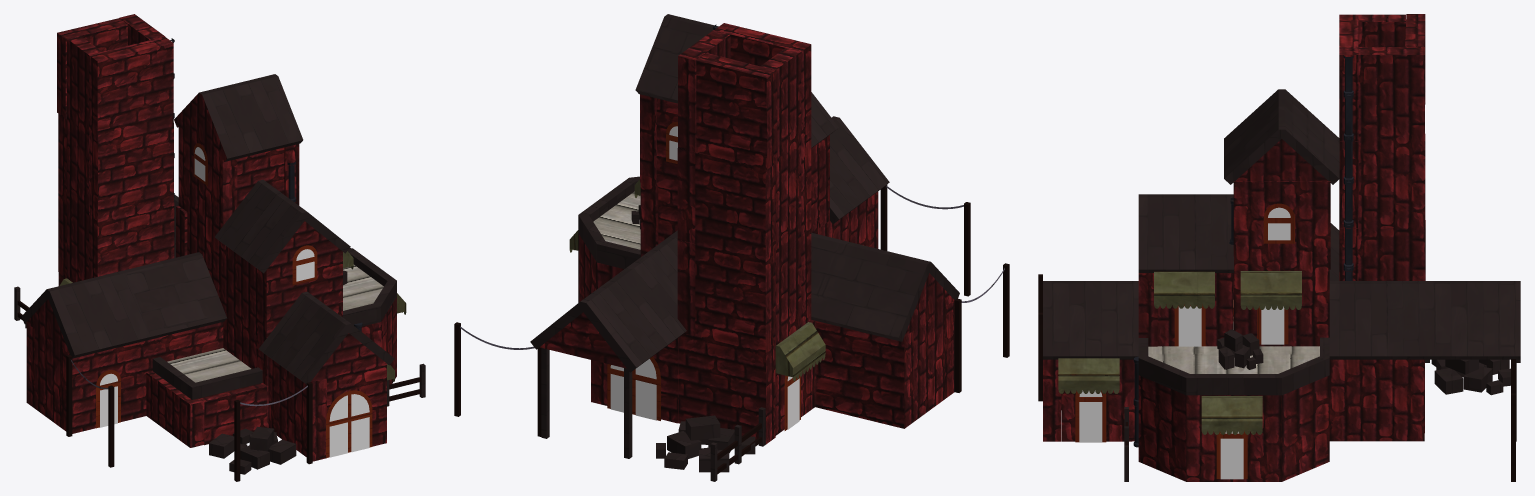
File: Brick_House.fbx
The picture shows the model from 3 angles, left to right: view 1: azimuth 30°, elevation 25°; view 2: azimuth 150°, elevation 25°; view 3: azimuth 270°, elevation 25°; orthographic projection. The views are drawn at different scales.
Parts seen in each view (by area): view 1: BrickHouse_LOD0.019, BrickHouse_LOD0.103, BrickHouse_LOD0.101, BrickHouse_LOD0.015, BrickHouse_LOD0.105, BrickHouse_LOD0.106, BrickHouse_LOD0.102, BrickHouse_LOD0.012, BrickHouse_LOD0.026, BrickHouse_LOD0.010, BrickHouse_LOD0.029, BrickHouse_LOD0.028 (+32 smaller); view 2: BrickHouse_LOD0.101, BrickHouse_LOD0.100, BrickHouse_LOD0.030, BrickHouse_LOD0.017, BrickHouse_LOD0.032, BrickHouse_LOD0.007, BrickHouse_LOD0.013, BrickHouse_LOD0.105, BrickHouse_LOD0.103, BrickHouse_LOD0.099, BrickHouse_LOD0.019, BrickHouse_LOD0.023 (+33 smaller); view 3: BrickHouse_LOD0.048, BrickHouse_LOD0.103, BrickHouse_LOD0.020, BrickHouse_LOD0.104, BrickHouse_LOD0.100, BrickHouse_LOD0.105, BrickHouse_LOD0.106, BrickHouse_LOD0.051, BrickHouse_LOD0.050, BrickHouse_LOD0.049, BrickHouse_LOD0.016, BrickHouse_LOD0.098 (+26 smaller).
Boxes of the visible parts, box(x1,y1,x2,y2) form: BrickHouse_LOD0.019: box(89, 36, 173, 141); BrickHouse_LOD0.103: box(174, 74, 303, 161); BrickHouse_LOD0.101: box(21, 270, 150, 358); BrickHouse_LOD0.015: box(89, 123, 173, 220); BrickHouse_LOD0.105: box(259, 291, 394, 384); BrickHouse_LOD0.106: box(215, 179, 350, 273); BrickHouse_LOD0.102: box(123, 252, 226, 339); BrickHouse_LOD0.012: box(89, 202, 174, 278); BrickHouse_LOD0.026: box(61, 340, 146, 433); BrickHouse_LOD0.010: box(178, 126, 237, 233); BrickHouse_LOD0.029: box(268, 357, 326, 461); BrickHouse_LOD0.028: box(257, 251, 342, 345); BrickHouse_LOD0.101: box(811, 240, 959, 341); BrickHouse_LOD0.100: box(530, 264, 686, 372); BrickHouse_LOD0.030: box(815, 321, 914, 428); BrickHouse_LOD0.017: box(696, 53, 777, 169); BrickHouse_LOD0.032: box(678, 333, 775, 444); BrickHouse_LOD0.007: box(695, 244, 775, 352); BrickHouse_LOD0.013: box(695, 152, 775, 260); BrickHouse_LOD0.105: box(830, 116, 889, 223); BrickHouse_LOD0.103: box(635, 14, 718, 103); BrickHouse_LOD0.099: box(578, 196, 640, 268); BrickHouse_LOD0.019: box(714, 23, 811, 142); BrickHouse_LOD0.023: box(913, 307, 944, 421); BrickHouse_LOD0.048: box(1132, 359, 1424, 441); BrickHouse_LOD0.103: box(1224, 89, 1339, 184); BrickHouse_LOD0.020: box(1233, 181, 1330, 269); BrickHouse_LOD0.104: box(1329, 281, 1424, 359); BrickHouse_LOD0.100: box(1425, 281, 1520, 359); BrickHouse_LOD0.105: box(1043, 281, 1138, 359); BrickHouse_LOD0.106: box(1138, 194, 1233, 272); BrickHouse_LOD0.051: box(1234, 375, 1329, 481); BrickHouse_LOD0.050: box(1138, 375, 1233, 481); BrickHouse_LOD0.049: box(1358, 47, 1424, 141); BrickHouse_LOD0.016: box(1358, 134, 1425, 228); BrickHouse_LOD0.098: box(1138, 338, 1233, 395).
Size of what is drawn, in the model's own units: 426 by 401 by 505.
